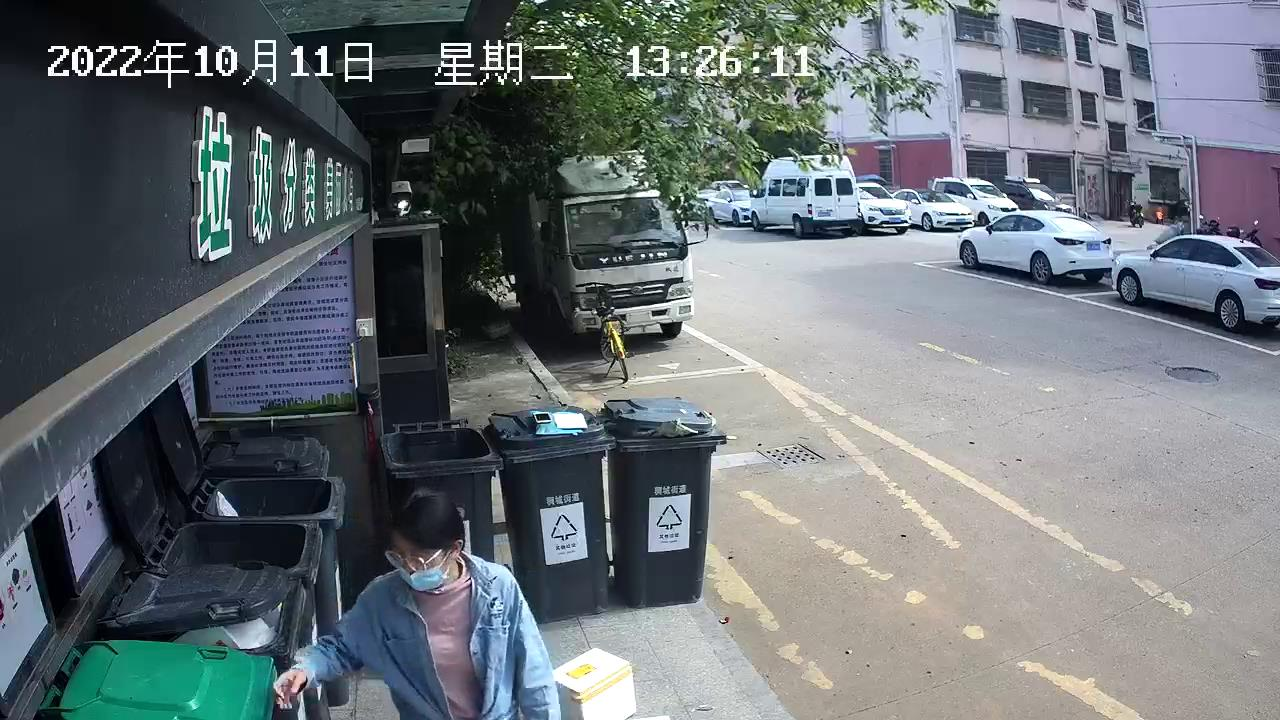worker: (269, 483, 566, 720)
zhizhipin: (548, 645, 647, 720)
